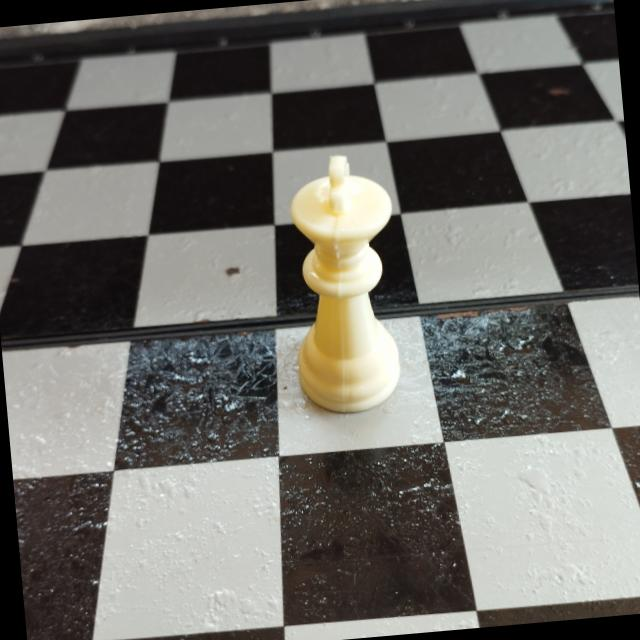White King: (273, 142, 419, 428)
